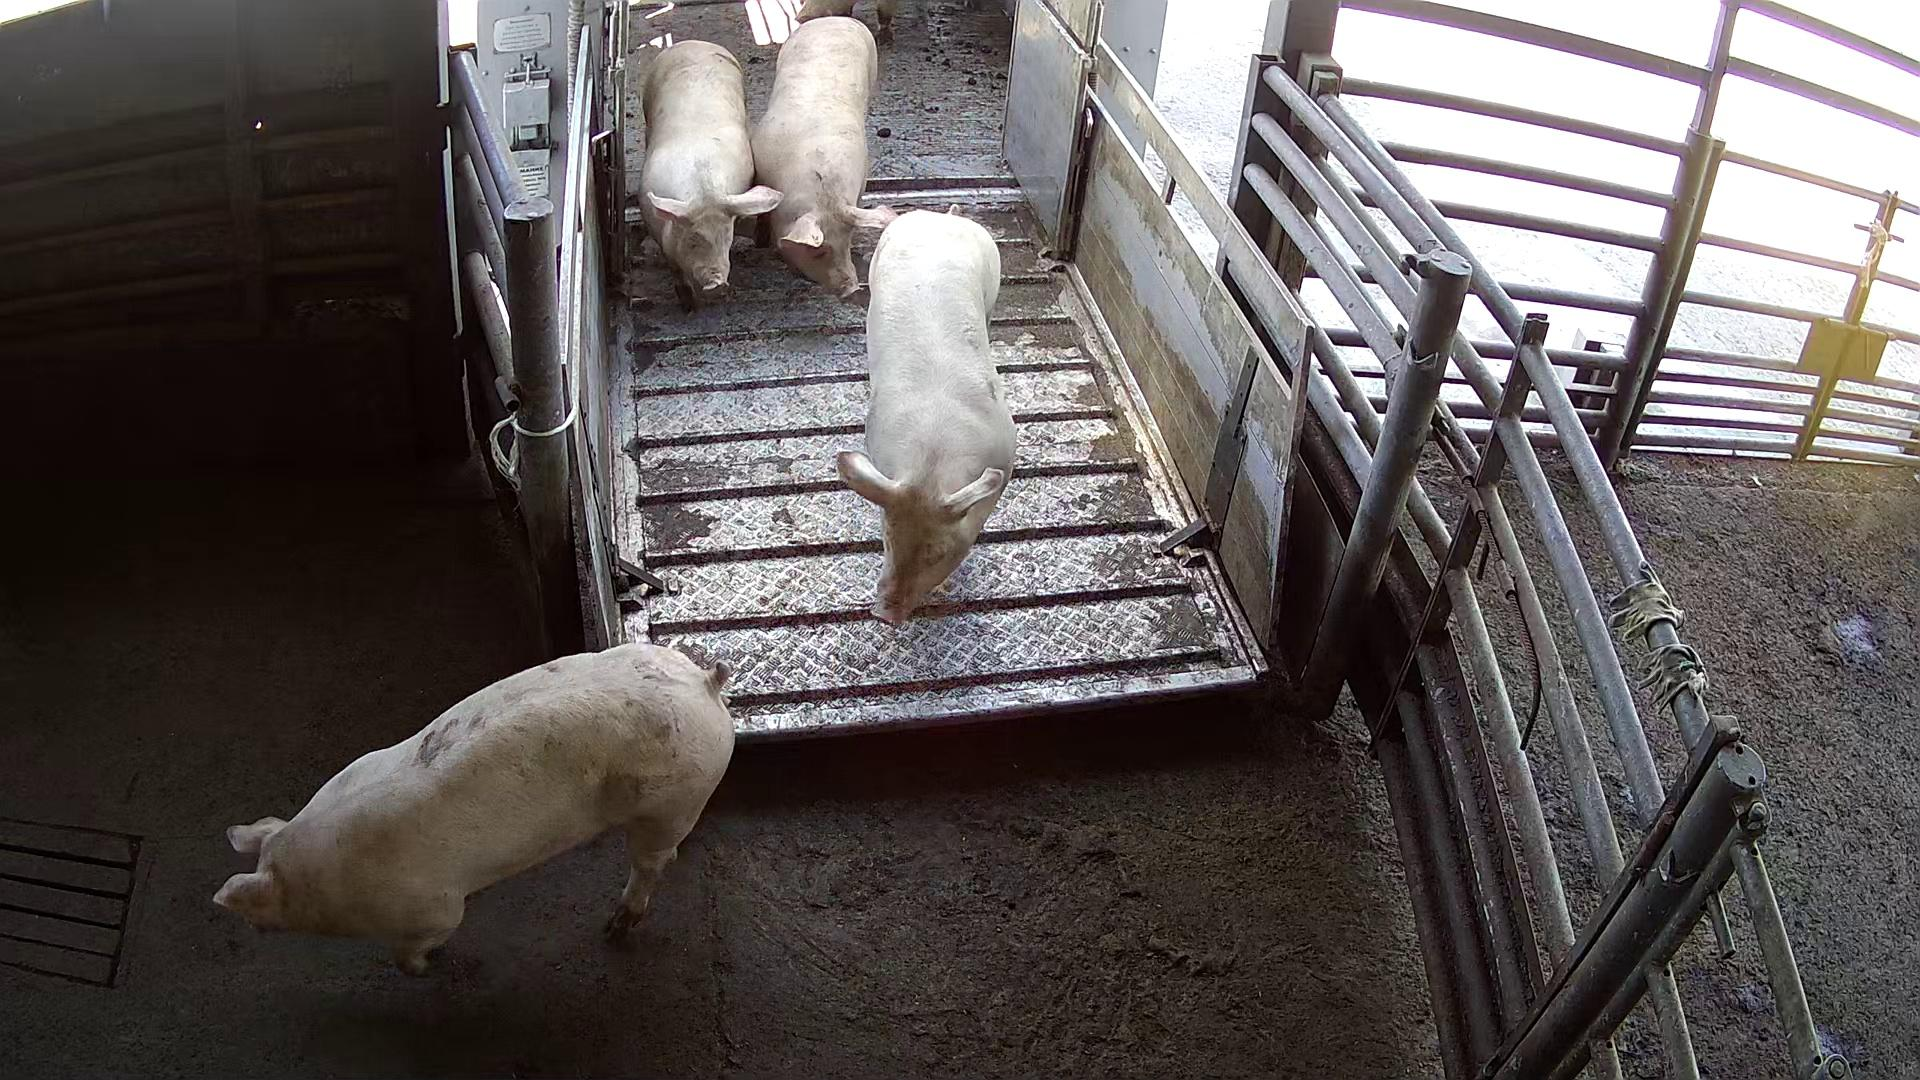Pig: (214, 644, 733, 973), (837, 208, 1015, 624), (752, 0, 895, 295), (640, 37, 781, 309)
